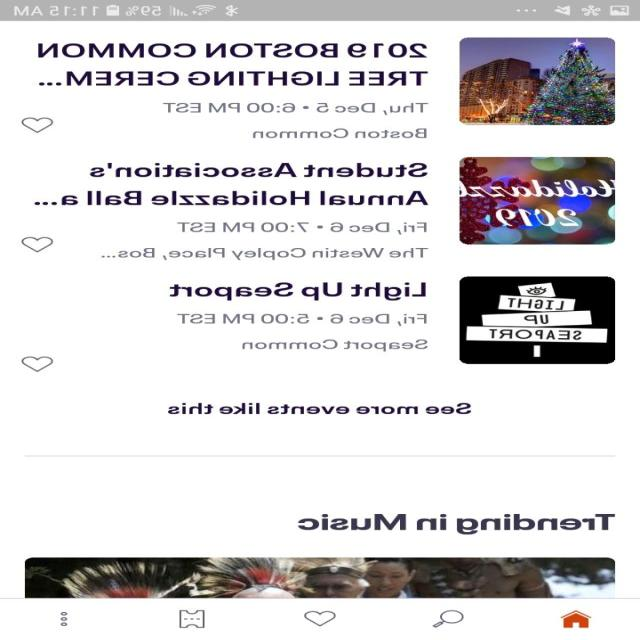Icon: (432, 609, 465, 628), (21, 116, 55, 134), (560, 609, 592, 628), (22, 236, 54, 253), (21, 356, 55, 372), (304, 610, 337, 626), (180, 609, 207, 628), (60, 611, 70, 626)
Image: (25, 557, 616, 598), (458, 37, 616, 126), (459, 156, 616, 245), (459, 276, 616, 364)
Text: (34, 162, 430, 206), (38, 43, 430, 86), (102, 222, 430, 260), (178, 312, 428, 352), (162, 102, 428, 138), (298, 513, 616, 535), (169, 282, 427, 300), (168, 402, 472, 414)
